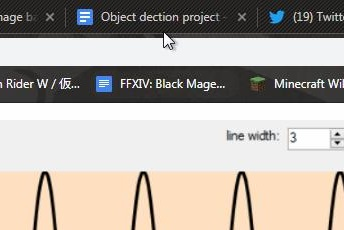cursor: (161, 31, 176, 51)
